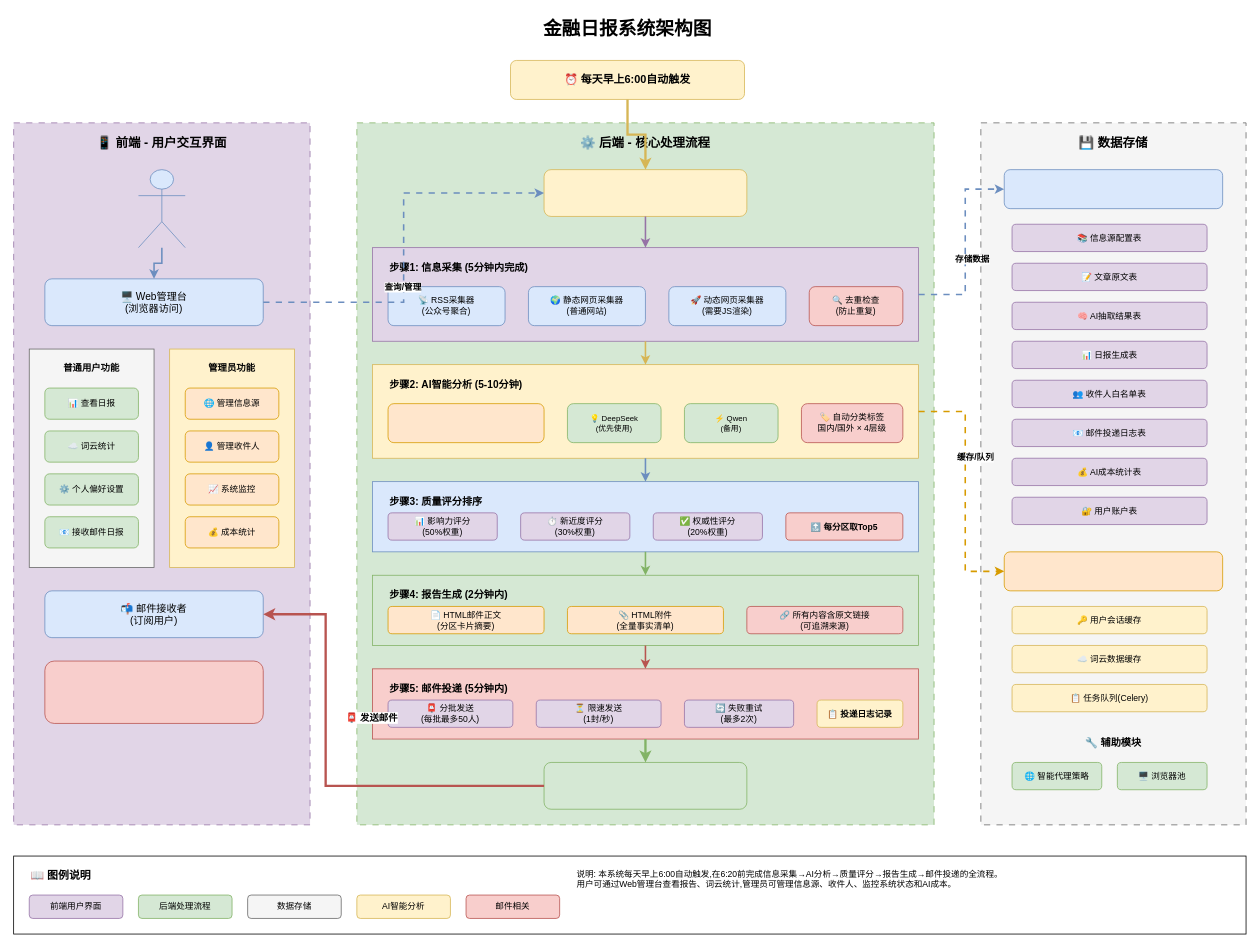
The diagram is 1260 pixels wide and 948 high, and some of its shapes have lost their labels. The shapes that lost their labels are listed below. From the top down, each one's box as (x1, y1, x2, y2) in pixels, then its label:
(138, 169, 185, 248): 👥 用户
(543, 169, 747, 216): 🎯 任务编排器 (协调整个流程)
(1003, 169, 1223, 209): 🗄️ PostgreSQL数据库
(387, 403, 544, 443): 🤖 AI抽取引擎 (提取事实和观点)
(1003, 551, 1223, 591): ⚡ Redis缓存
(44, 660, 263, 723): ✉️ 每天早上收到: • HTML邮件正文(分区摘要) • HTML附件(全量事实)
(543, 762, 747, 809): ✅ 完成! 6:20前送达所有用户邮箱
